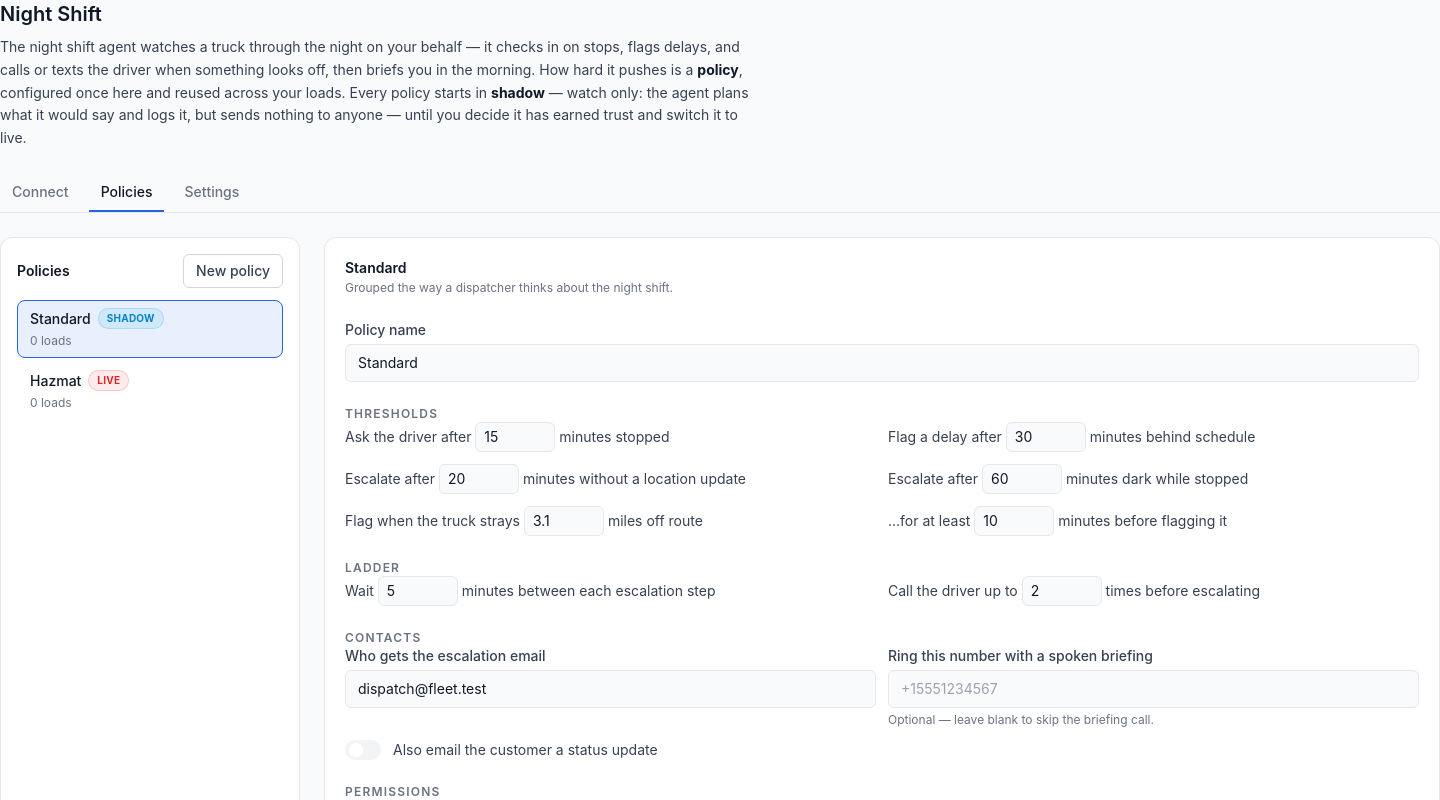
Test: NightShiftView › a non-Standard policy shows a delete button
The image size is (1440, 800).
What coordinates should you click on to do the following:
click the button with test id "policy-row-pol-hazmat"
I would click on:
 (56, 380)
Its box is top-left (17, 362), bottom-right (283, 420).
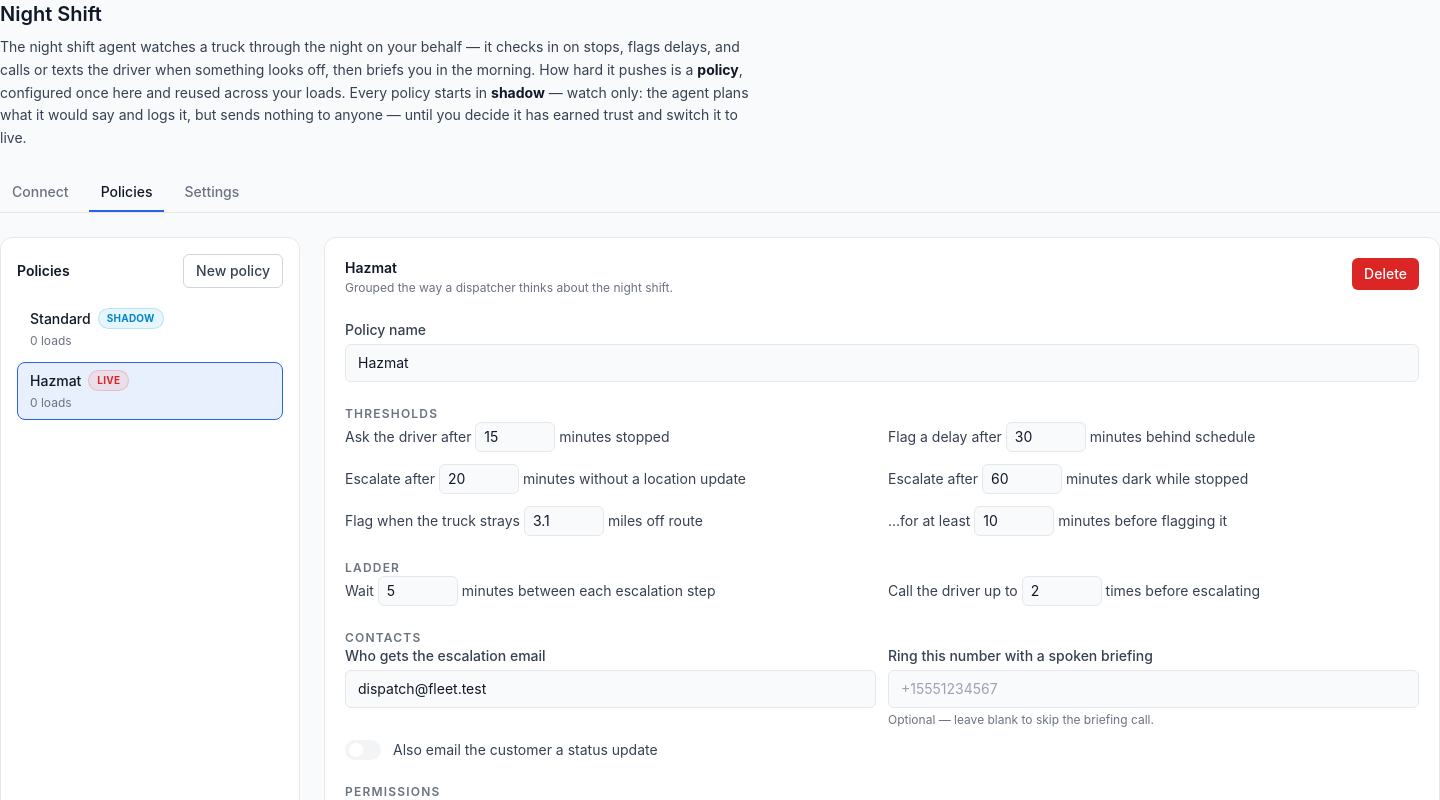
Now the button with test id "delete-policy" is shown, box top-left (1352, 258), bottom-right (1419, 290)
